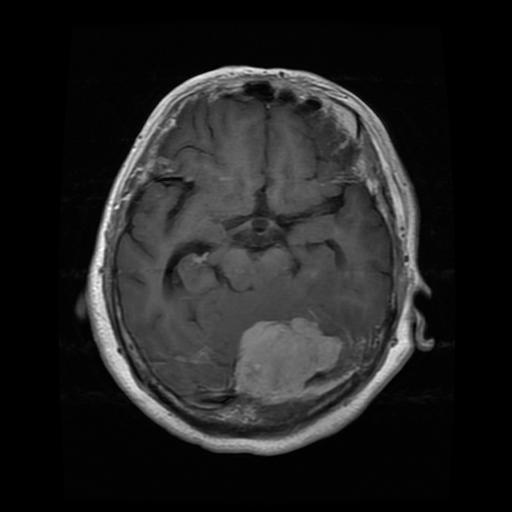Menigiomia_tumour: (235, 315, 341, 400)
